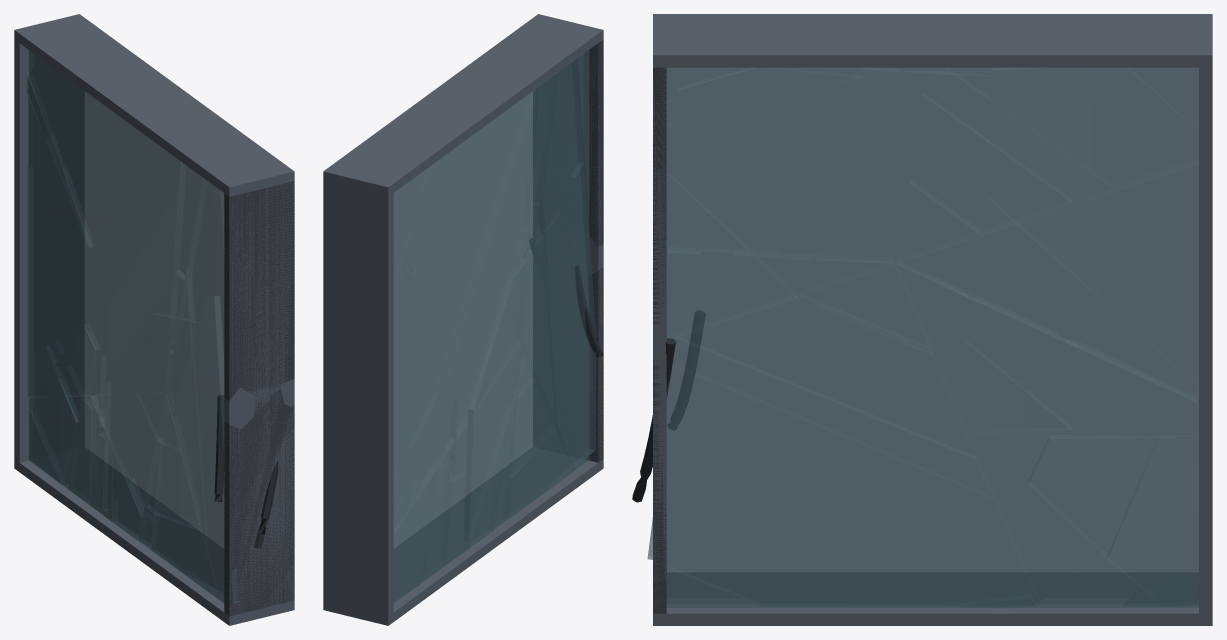
File: shr_cmp_generic_panel_glass_a.glb
The picture shows the model from 3 angles, left to right: view 1: azimuth 30°, elevation 25°; view 2: azimuth 150°, elevation 25°; view 3: azimuth 270°, elevation 25°; orthographic projection. The views are drawn at different scales.
Parts seen in each view (by area): view 1: mesh_heavy, mesh_intact, mesh_light; view 2: mesh_heavy, mesh_light, mesh_intact; view 3: mesh_intact, mesh_light, mesh_heavy.
Part boxes in pixels (x1=…): mesh_heavy: x1=14, y1=14, x2=294, y2=625; mesh_intact: x1=28, y1=51, x2=294, y2=615; mesh_light: x1=14, y1=15, x2=293, y2=602; mesh_heavy: x1=323, y1=14, x2=603, y2=625; mesh_light: x1=325, y1=14, x2=603, y2=602; mesh_intact: x1=393, y1=40, x2=603, y2=602; mesh_intact: x1=653, y1=67, x2=1198, y2=613; mesh_light: x1=653, y1=14, x2=1212, y2=606; mesh_heavy: x1=632, y1=14, x2=1212, y2=625.
Bounding box in the file's own units: 0.1588 × 0.9024 × 0.8297.
